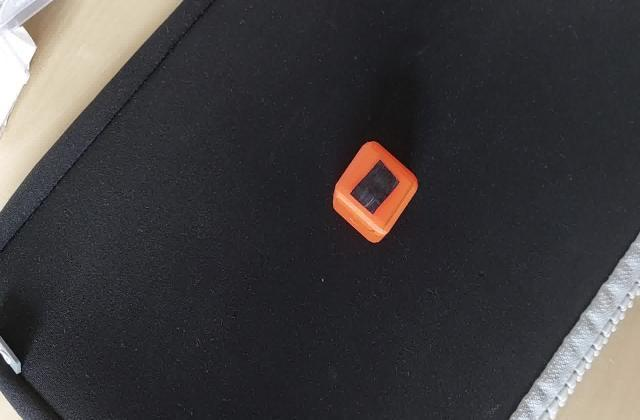black: (344, 161, 404, 214)
sticker: (328, 140, 421, 248)
